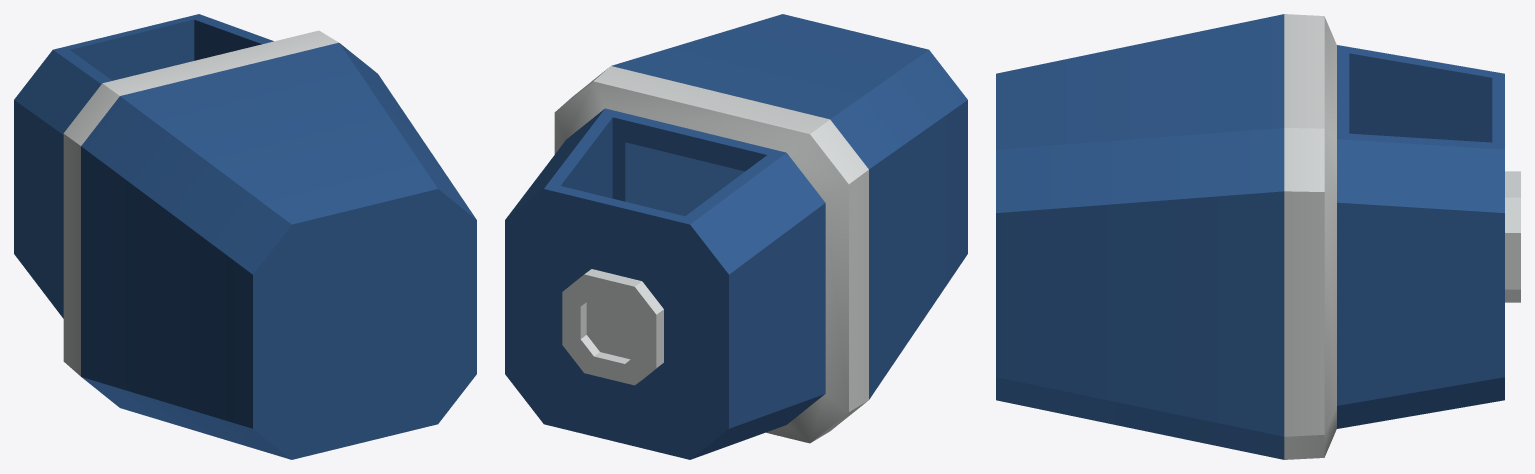
File: Bin 02.FBX
3 views of the same model, side by side, from view 1: azimuth 30°, elevation 25°; view 2: azimuth 150°, elevation 25°; view 3: azimuth 270°, elevation 25° (orthographic). The views are drawn at different scales.
Visible parts, largest first — view 1: Bin 02; view 2: Bin 02; view 3: Bin 02.
Boxes of the visible parts, <box> form: Bin 02: <box>14,14,476,459</box>; Bin 02: <box>505,14,967,459</box>; Bin 02: <box>996,14,1520,459</box>.
Size of the model in its own units: 93.34 by 93.71 by 134.
Materials: 1 (1 with a texture image).
